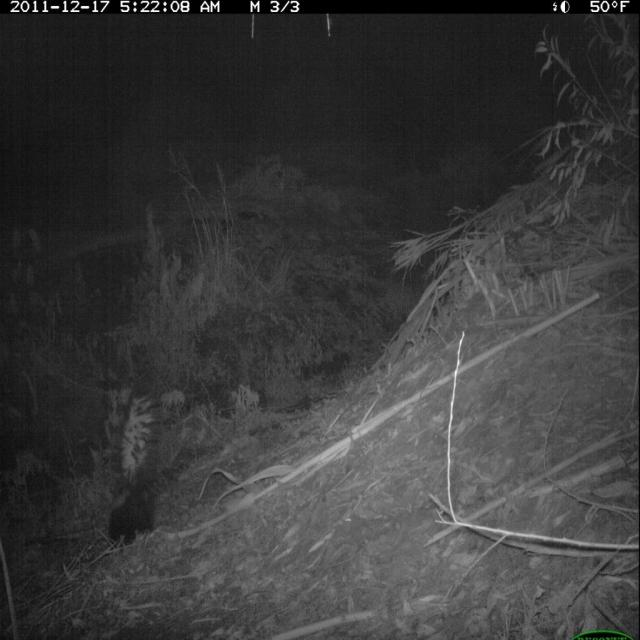skunk: (88, 365, 181, 544)
